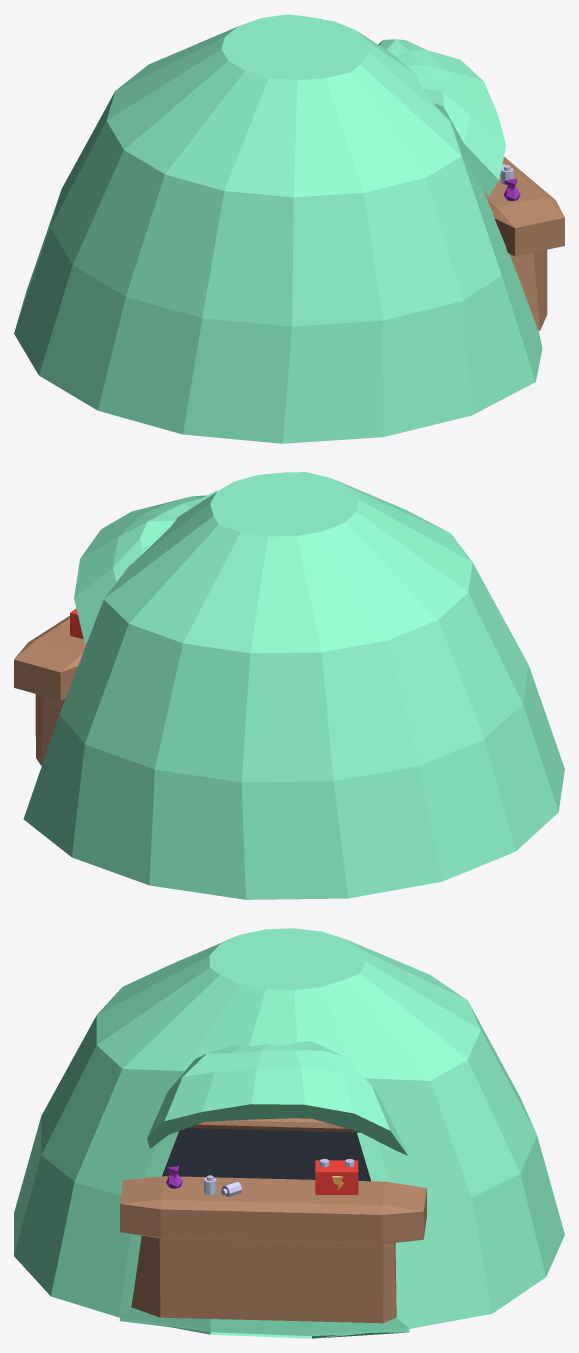
Rendered from tenda_COLORES_BASE.fbx.
The picture shows the model from 3 angles, top to bottom: view 1: azimuth 30°, elevation 25°; view 2: azimuth 150°, elevation 25°; view 3: azimuth 270°, elevation 25°; orthographic projection.
Parts seen in each view (by area): view 1: Cilindro, Cilindro.001, Cubo.001; view 2: Cilindro, Cilindro.001, Cubo.001; view 3: Cilindro, Cubo.001, Cilindro.001, Cubo, Cilindro.005, Cubo.002.
Boxes of the visible parts, box(x1,y1,x2,y2) form: Cilindro: box(14, 14, 542, 443); Cilindro.001: box(378, 39, 505, 196); Cubo.001: box(483, 156, 564, 330); Cilindro: box(23, 472, 564, 899); Cilindro.001: box(74, 490, 217, 643); Cubo.001: box(14, 616, 87, 765); Cilindro: box(14, 928, 564, 1338); Cubo.001: box(120, 1176, 426, 1323); Cilindro.001: box(147, 1041, 407, 1155); Cubo: box(162, 1118, 370, 1181); Cilindro.005: box(188, 1118, 359, 1132); Cubo.002: box(315, 1160, 358, 1194).
Bounding box in the file's own units: 875 × 524 × 923.
